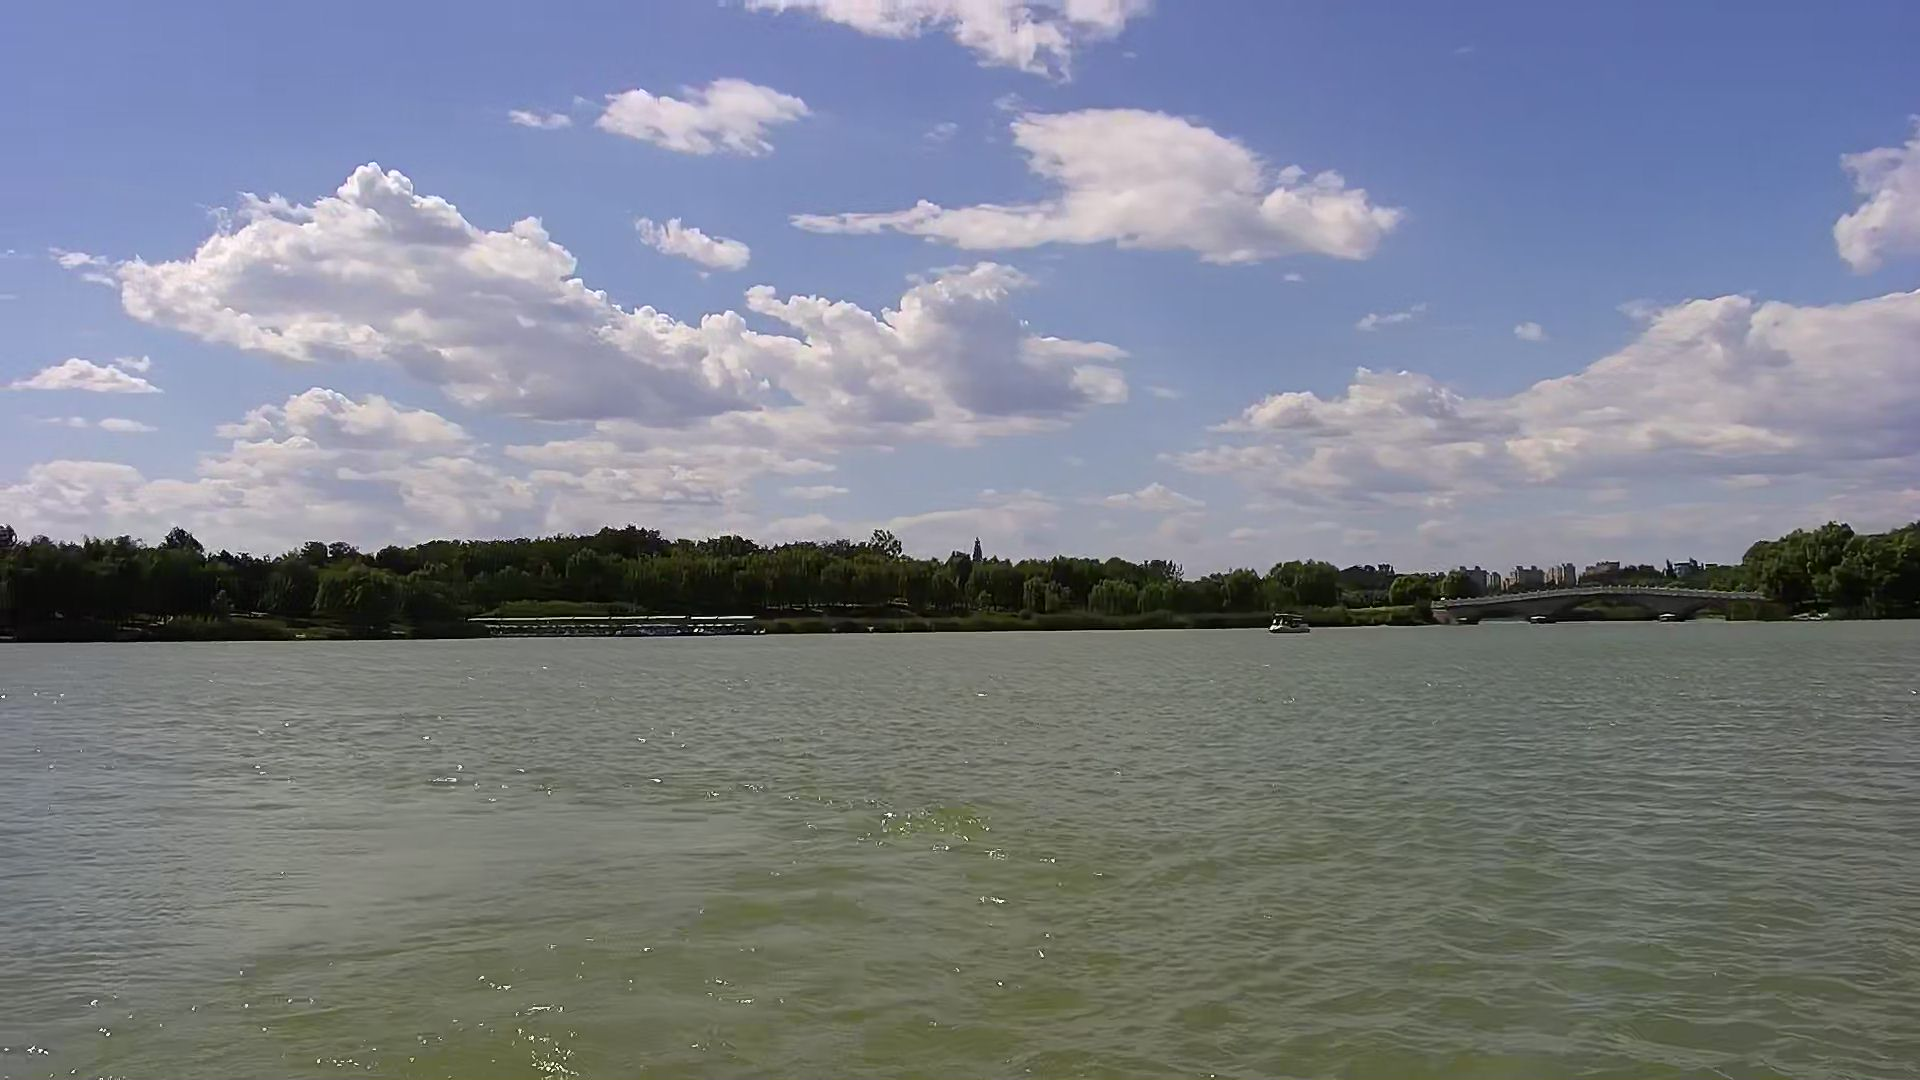boat: (1266, 612, 1315, 636)
bridge: (1429, 584, 1764, 625), (477, 616, 754, 637)
